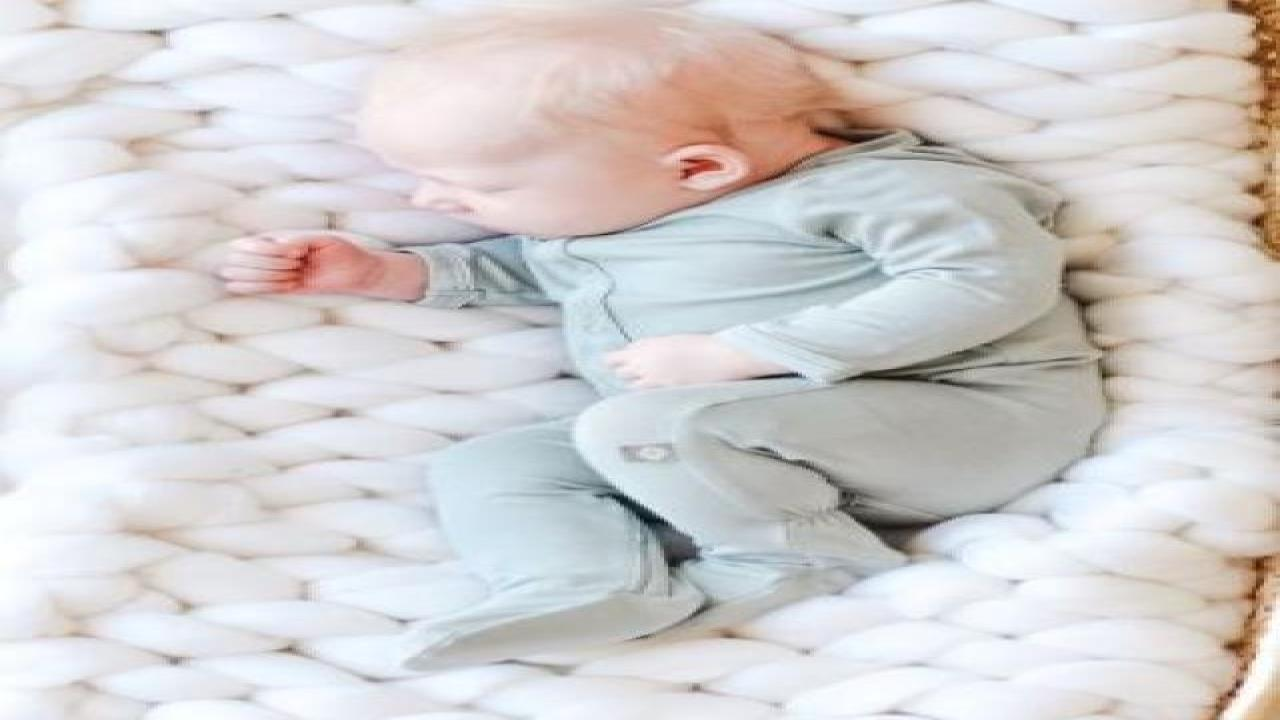hand: (222, 228, 380, 302), (595, 334, 754, 391)
